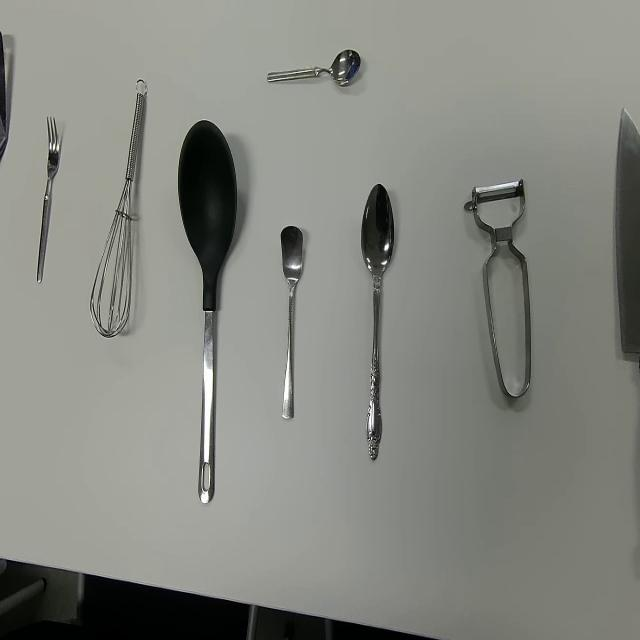Desert-Spoon: (361, 182, 395, 462)
Dinner-Fork: (36, 115, 61, 286)
Kitchen-Knife: (614, 106, 640, 379)
Peeler: (463, 176, 532, 399)
Serving-Spoon: (176, 118, 238, 506)
Tea-Spoon: (280, 224, 304, 421), (266, 47, 362, 88)
Whisk: (89, 77, 148, 339)
